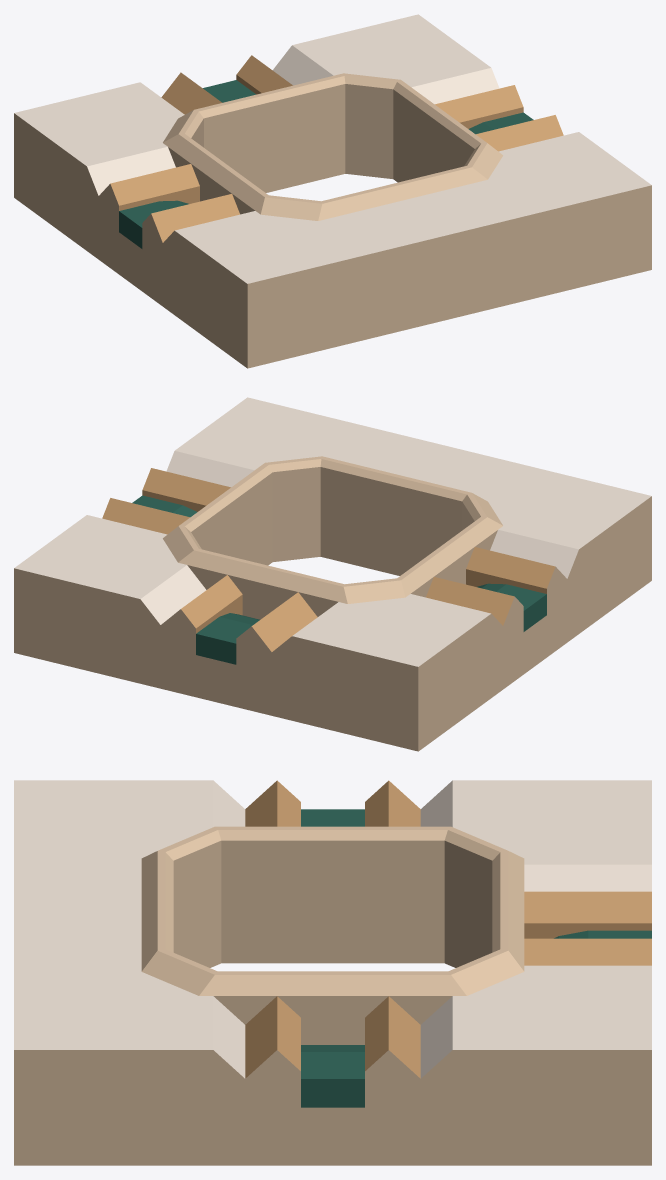
Rendered from Puzzle_Floor_Conduit_Control_Housing_TJoint.fbx.
3 views of the same model, one above another, from view 1: azimuth 30°, elevation 25°; view 2: azimuth 150°, elevation 25°; view 3: azimuth 270°, elevation 25° (orthographic). The views are drawn at different scales.
Parts seen in each view (by area): view 1: Sandstone_Trim.Sandstone_Trim.Sandstone_Trim.Sandstone_Trim., Sandstone_Floor.Sandstone_Floor.Sandstone_Floor.Sandstone_Fl, Sandstone_5.Sandstone_5.Sandstone_5.Sandstone_5.Sandstone_5., object2, object1, object3; view 2: Sandstone_Trim.Sandstone_Trim.Sandstone_Trim.Sandstone_Trim., Sandstone_Floor.Sandstone_Floor.Sandstone_Floor.Sandstone_Fl, Sandstone_5.Sandstone_5.Sandstone_5.Sandstone_5.Sandstone_5., object1, object2, object3; view 3: Sandstone_Trim.Sandstone_Trim.Sandstone_Trim.Sandstone_Trim., Sandstone_Floor.Sandstone_Floor.Sandstone_Floor.Sandstone_Fl, Sandstone_5.Sandstone_5.Sandstone_5.Sandstone_5.Sandstone_5., object3, object2, object1.
Boxes of the visible parts, x1=… form: Sandstone_Trim.Sandstone_Trim.Sandstone_Trim.Sandstone_Trim.: x1=14, y1=73, x2=651, y2=368; Sandstone_Floor.Sandstone_Floor.Sandstone_Floor.Sandstone_Fl: x1=14, y1=14, x2=651, y2=283; Sandstone_5.Sandstone_5.Sandstone_5.Sandstone_5.Sandstone_5.: x1=110, y1=55, x2=563, y2=242; object2: x1=119, y1=200, x2=188, y2=248; object1: x1=203, y1=80, x2=255, y2=102; object3: x1=468, y1=112, x2=533, y2=134; Sandstone_Trim.Sandstone_Trim.Sandstone_Trim.Sandstone_Trim.: x1=14, y1=456, x2=651, y2=751; Sandstone_Floor.Sandstone_Floor.Sandstone_Floor.Sandstone_Fl: x1=14, y1=397, x2=651, y2=666; Sandstone_5.Sandstone_5.Sandstone_5.Sandstone_5.Sandstone_5.: x1=102, y1=468, x2=555, y2=651; object1: x1=196, y1=613, x2=259, y2=664; object2: x1=477, y1=583, x2=546, y2=631; object3: x1=132, y1=495, x2=197, y2=517; Sandstone_Trim.Sandstone_Trim.Sandstone_Trim.Sandstone_Trim.: x1=14, y1=826, x2=651, y2=1165; Sandstone_Floor.Sandstone_Floor.Sandstone_Floor.Sandstone_Fl: x1=14, y1=780, x2=651, y2=1078; Sandstone_5.Sandstone_5.Sandstone_5.Sandstone_5.Sandstone_5.: x1=245, y1=780, x2=651, y2=1078; object3: x1=301, y1=1045, x2=364, y2=1107; object2: x1=301, y1=809, x2=364, y2=826; object1: x1=554, y1=930, x2=651, y2=938.
Size of the model in its own units: 1 by 0.225 by 1.
